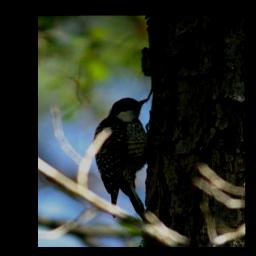Woodpecker: (92, 96, 152, 223)
